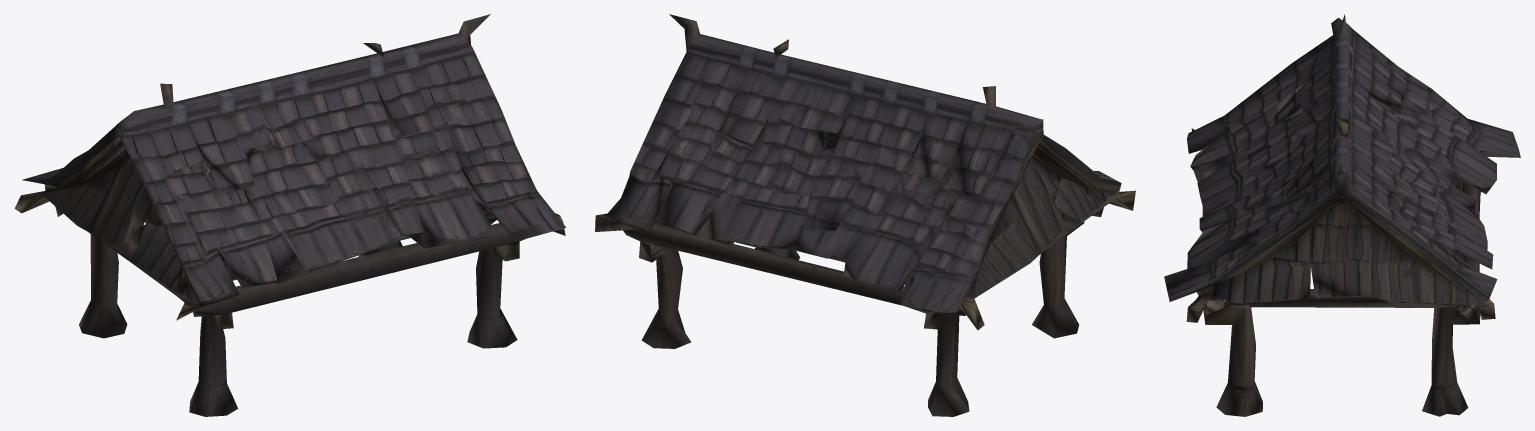
Rendered from prop-hut-roof-2.glb.
3 views of the same model, side by side, from view 1: azimuth 30°, elevation 25°; view 2: azimuth 150°, elevation 25°; view 3: azimuth 270°, elevation 25° (orthographic). The views are drawn at different scales.
Bounding box in the file's own units: 2 × 1.37 × 1.67.
1 material, 1 textured.
